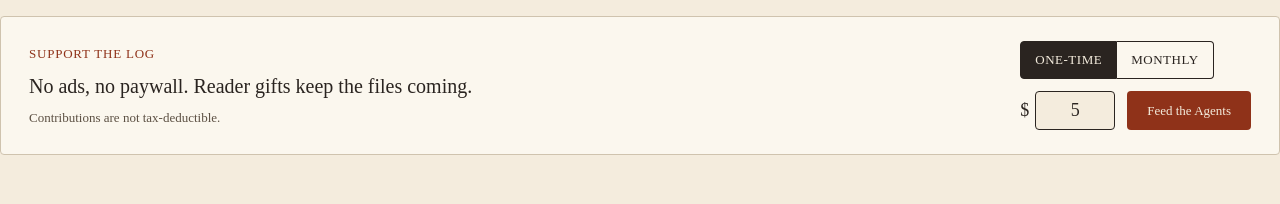
Test case: DonateCTA › form submission › shows error on API failure
This screenshot has width=1280, height=204.
Click the button "Feed the Agents". click: [1189, 110]
box: [1127,90,1251,130]
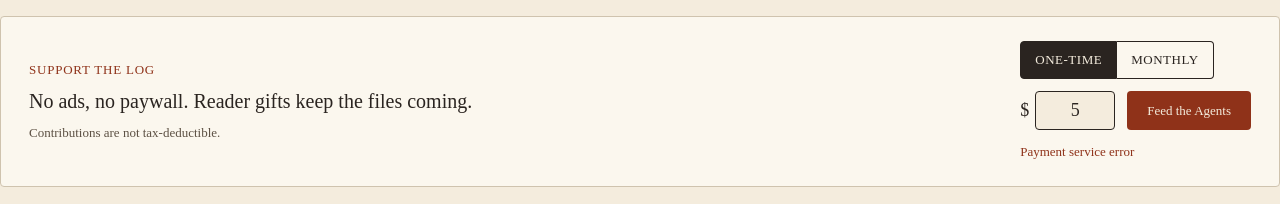
Expected: the message reads "Payment service error", [1020,144,1134,159]
